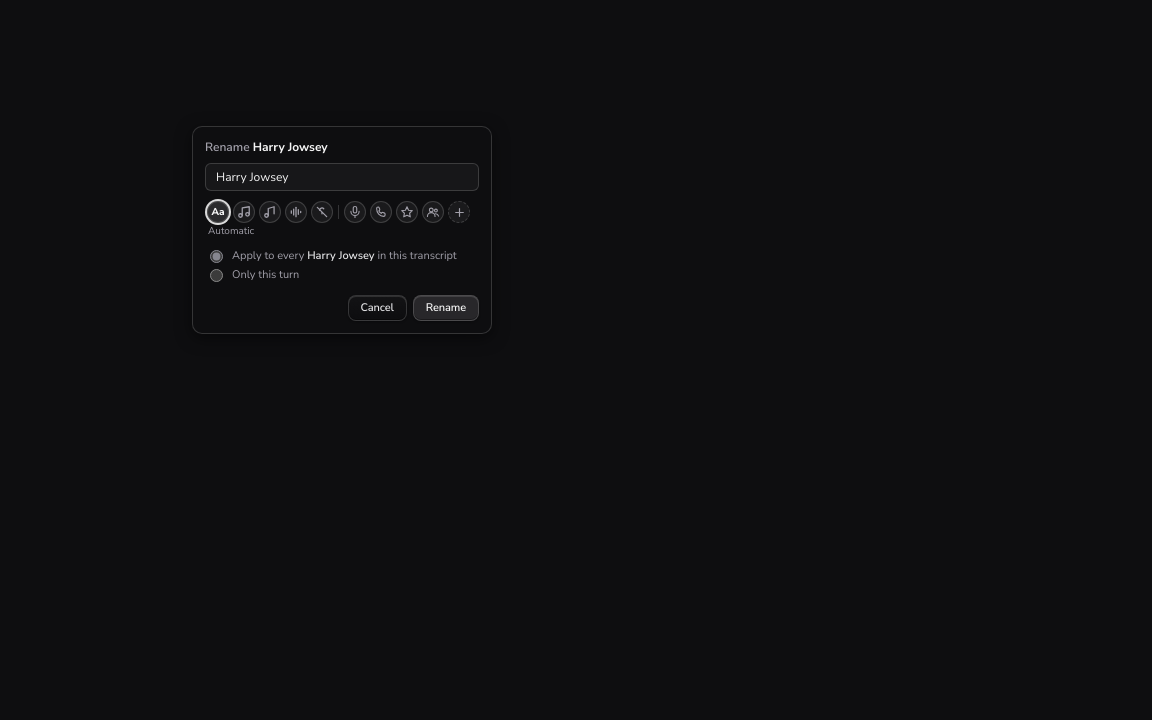
Scenario: the sheet behind the plus › opens, and offers the whole catalogue
Click the button titled "All icons". click: (459, 212)
box: [448,201,470,223]
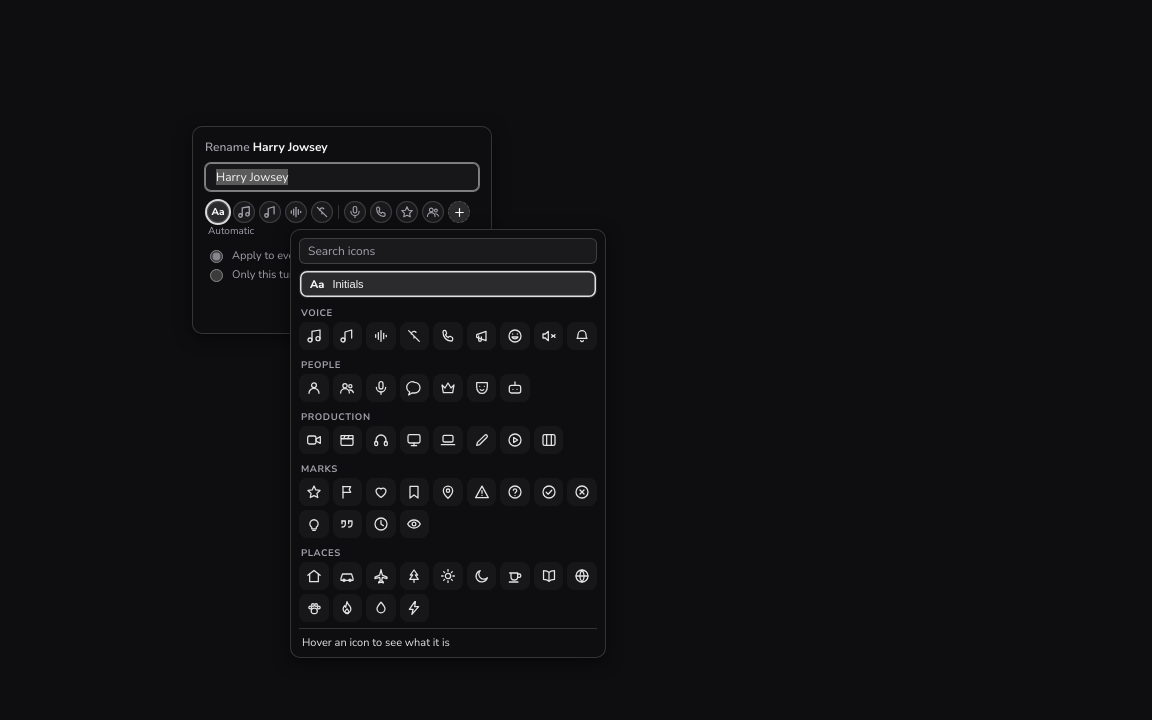
Expected: the dialog with class "cp-badgesheet" is shown, [290,229,606,658]
